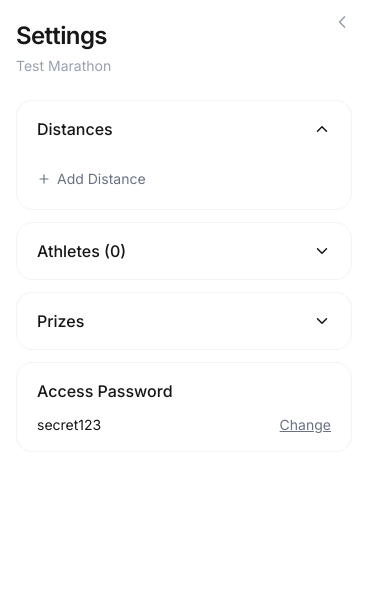
Test: Settings Page — Access Password › "Change" button shows inline edit field pre-filled with current password
Click the button "Change" at (305, 425), box 280,415 -> 331,435
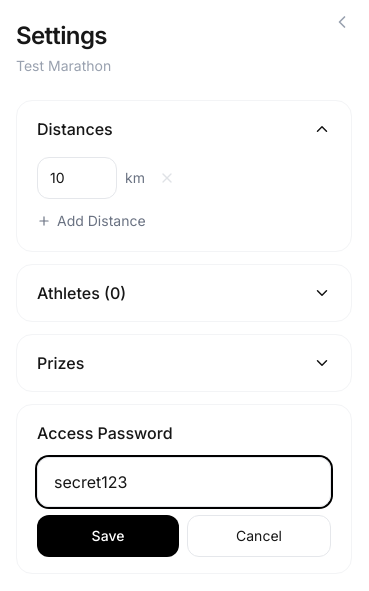
Check: the field showing "secret123" is shown, box 37,457 -> 331,507
